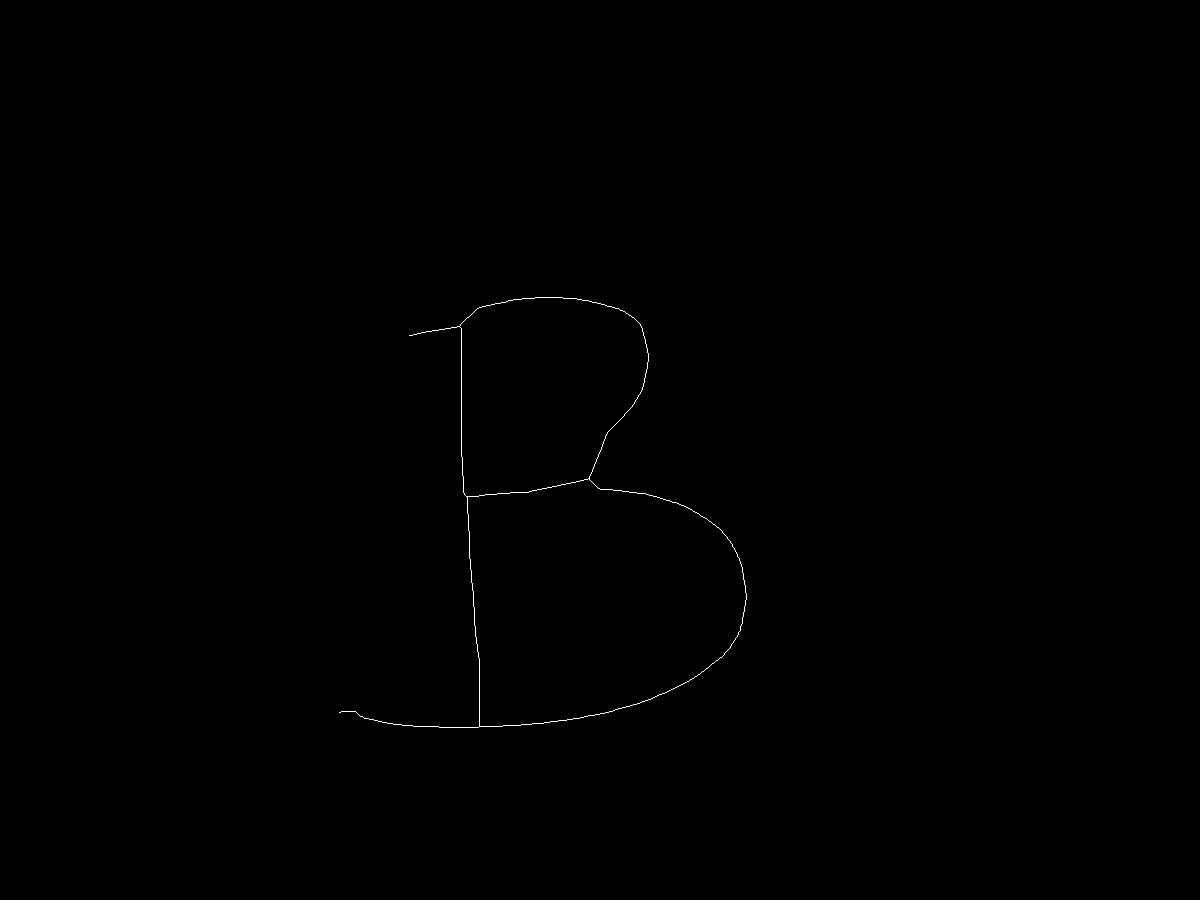dian1: (453, 321, 469, 337)
dian2: (456, 488, 475, 507)
dian3: (474, 720, 494, 740)
dian4: (583, 473, 598, 488)
